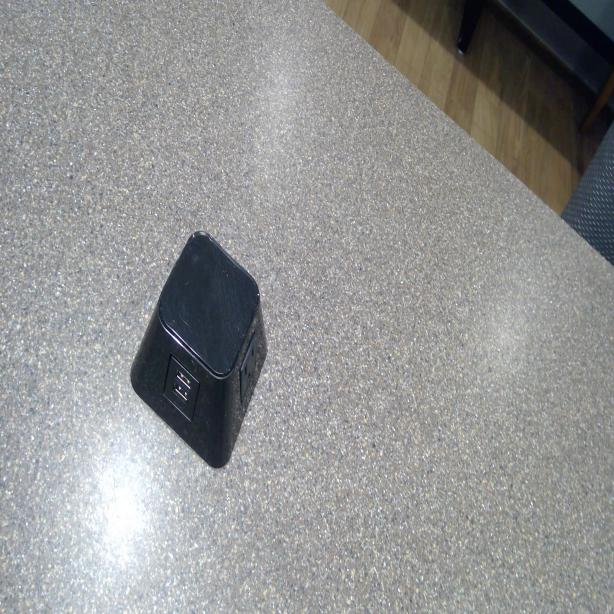typeb: (239, 341, 258, 383)
